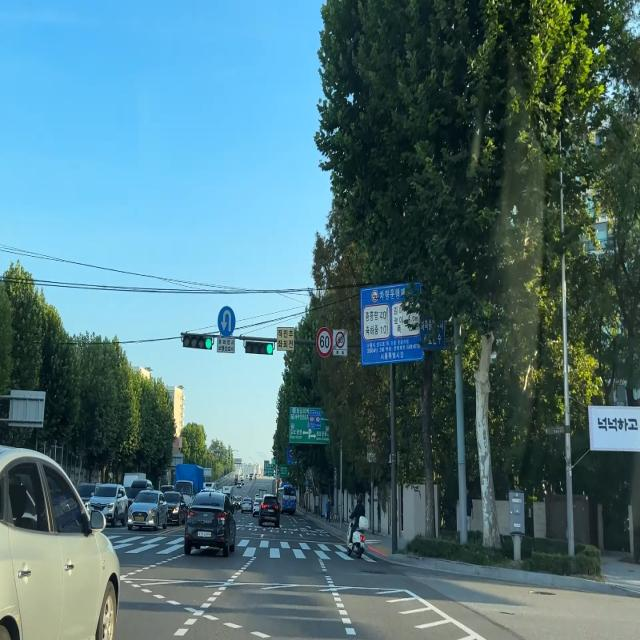Green Light: (266, 343, 274, 355), (205, 337, 212, 350)
